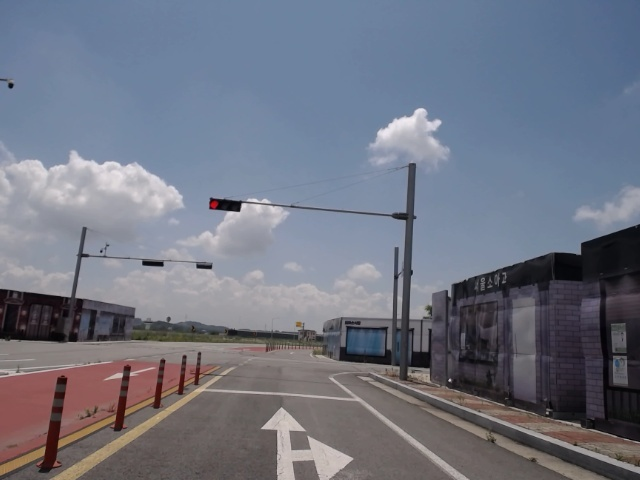red_3: (207, 197, 243, 213)
